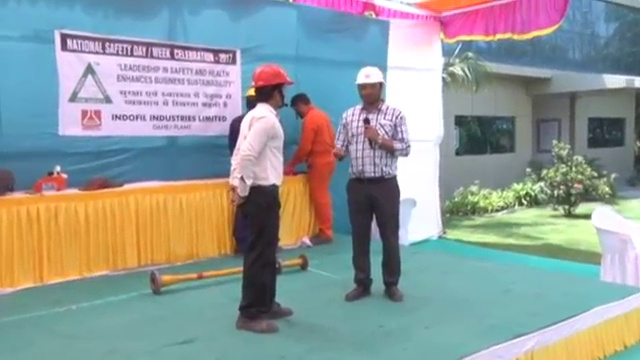helmet: (252, 64, 295, 88), (354, 65, 387, 87)
helmet_off: (289, 91, 314, 119)
helmet_on: (252, 62, 294, 113), (351, 64, 387, 112)
person: (331, 65, 409, 303), (230, 63, 295, 336), (287, 92, 336, 246)
